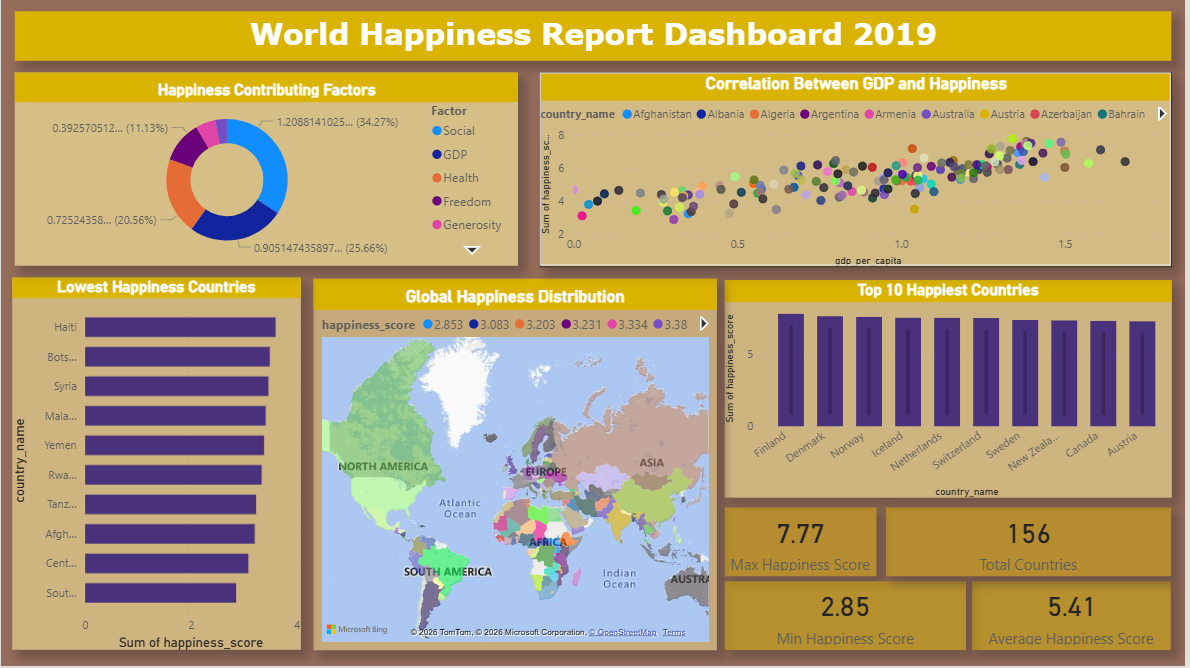

What the dashboard file says about the page in this screenshot:
{"tool":"powerbi","page":{"name":"Dashboard","canvas":[1280,720],"ordinal":5},"visuals":[{"type":"textbox","box":[14.3,11.7,1250.6,53.2],"z":0},{"type":"columnChart","title":"Top 10 Happiest Countries","fields":{"Category":["public dim_country.country_name"],"Y":["Sum(public fact_happiness.happiness_score)"]},"box":[781.8,302.6,483.1,235.1],"z":1000},{"type":"filledMap","title":"Global Happiness Distribution","fields":{"Category":["public dim_country.country_name"],"Series":["public fact_happiness.happiness_score"]},"box":[337.7,301.3,436.4,401.3],"z":2000},{"type":"scatterChart","title":"Correlation Between GDP and Happiness","fields":{"X":["public fact_happiness.gdp_per_capita"],"Y":["Sum(public fact_happiness.happiness_score)"],"Series":["public dim_country.country_name"]},"box":[581.8,77.9,683.1,210.4],"z":3000},{"type":"barChart","title":"Lowest Happiness Countries","fields":{"Category":["public dim_country.country_name"],"Y":["Sum(fact_happiness.happiness_score)"]},"box":[11.7,300,311.7,402.6],"z":4000},{"type":"donutChart","title":"Happiness Contributing Factors","fields":{"Category":["Factors.Factor"],"Y":["Factors.Factor Value"]},"box":[14.3,77.9,544.2,209.1],"z":5000},{"type":"card","fields":{"Values":["Max(fact_happiness.happiness_score)"]},"box":[781.8,548.1,163.6,74],"z":6000},{"type":"card","fields":{"Values":["Min(fact_happiness.happiness_score)"]},"box":[781.8,628.6,261,74],"z":7000},{"type":"card","fields":{"Values":["Avg(fact_happiness.happiness_score)"]},"box":[1050.6,628.6,214.3,74],"z":7001},{"type":"card","fields":{"Values":["CountNonNull(dim_country.country_id)"]},"box":[957.1,548.1,307.8,74],"z":7002}]}

Visuals, with their boxes in screenshot pixels (x1, y1, x2, y2), scaled from the page's 1280x720 canvas onto the 1190x668 screenshot:
textbox: Rect(13, 11, 1176, 60)
"Top 10 Happiest Countries" columnChart: Rect(727, 281, 1176, 499)
"Global Happiness Distribution" filledMap: Rect(314, 280, 720, 652)
"Correlation Between GDP and Happiness" scatterChart: Rect(541, 72, 1176, 267)
"Lowest Happiness Countries" barChart: Rect(11, 278, 301, 652)
"Happiness Contributing Factors" donutChart: Rect(13, 72, 519, 266)
card - Max(fact_happiness.happiness_score): Rect(727, 509, 879, 577)
card - Min(fact_happiness.happiness_score): Rect(727, 583, 969, 652)
card - Avg(fact_happiness.happiness_score): Rect(977, 583, 1176, 652)
card - CountNonNull(dim_country.country_id): Rect(890, 509, 1176, 577)
